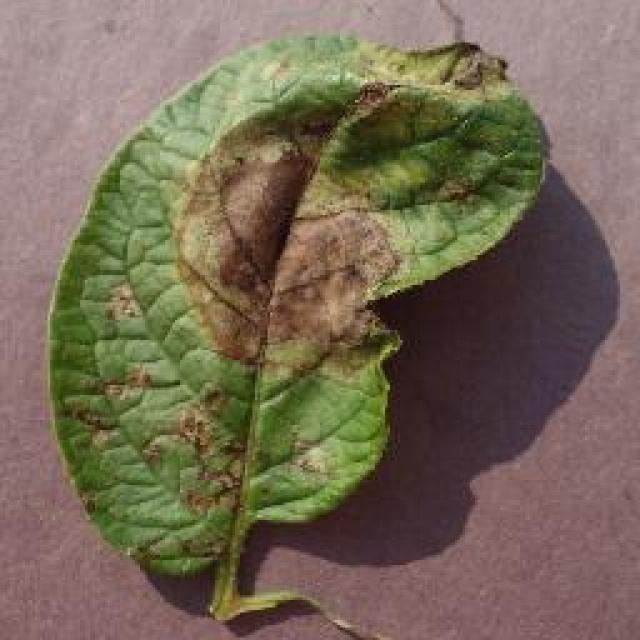late_blight: (42, 28, 550, 602)
